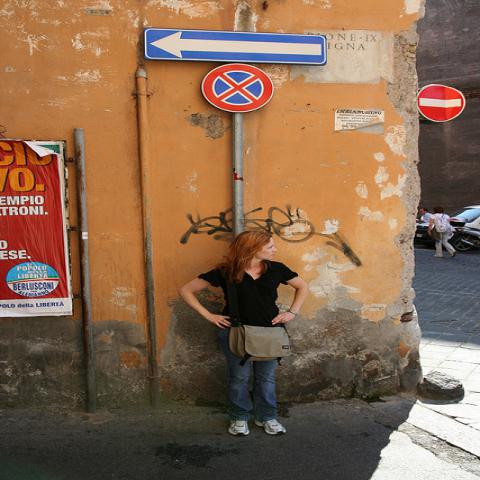car: (415, 205, 478, 247)
